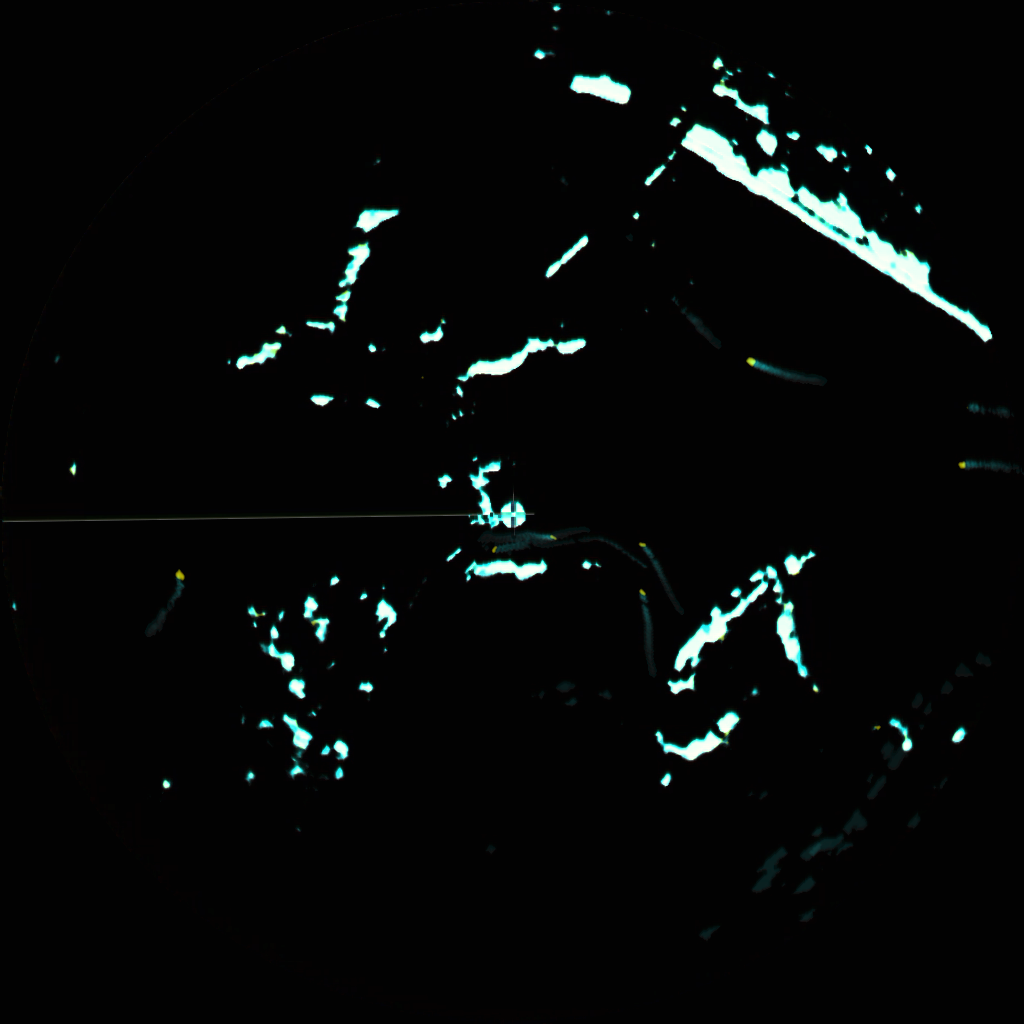B: (159, 564, 189, 635), (635, 537, 674, 591), (744, 353, 813, 383), (632, 587, 659, 654), (486, 537, 550, 556), (956, 456, 1010, 475), (499, 529, 560, 541)
